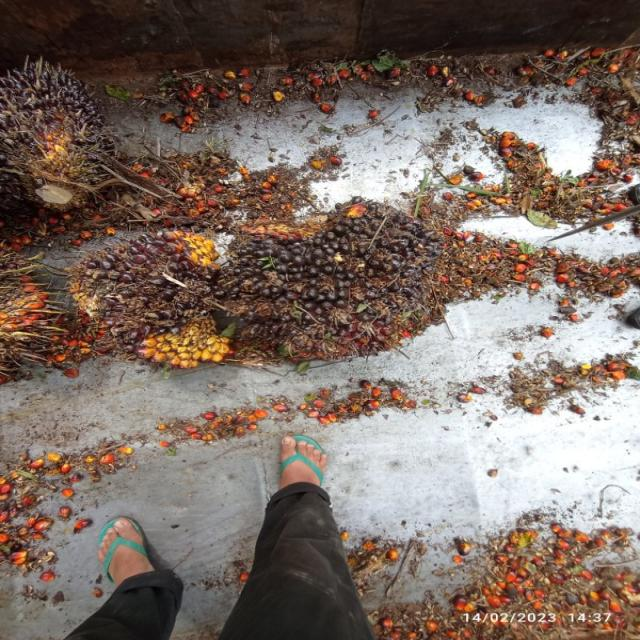fraksi 00: (213, 197, 453, 364), (54, 234, 239, 374), (0, 54, 117, 215)
